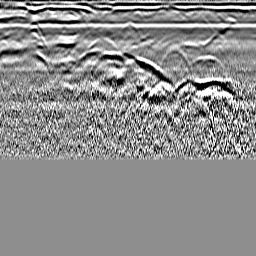cavity: (121, 19, 136, 33)
